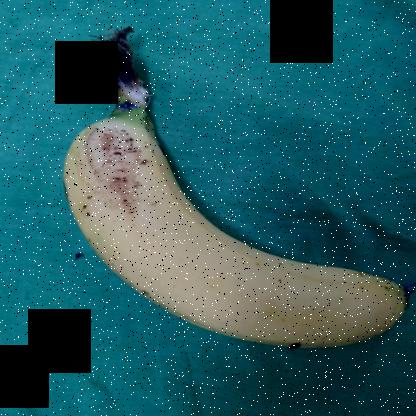freshripe: (57, 115, 415, 352)
